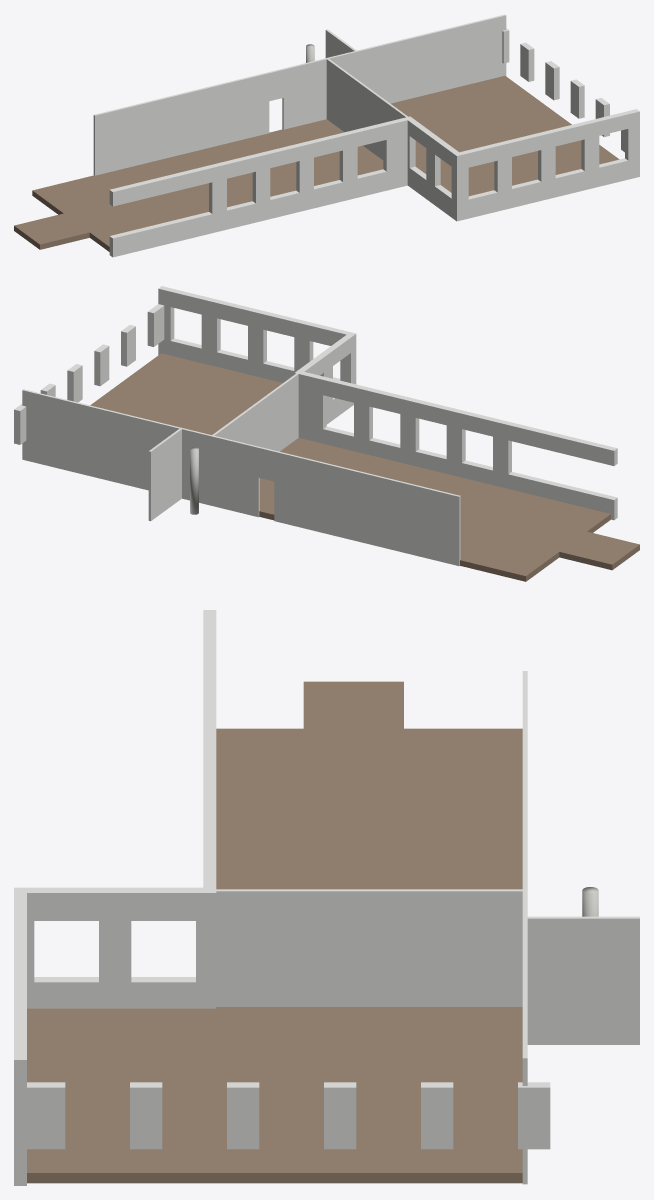
The model's file is SM_Bygg_Helgasetr_P4_O_S.fbx.
3 views of the same model, one above another, from view 1: azimuth 30°, elevation 25°; view 2: azimuth 150°, elevation 25°; view 3: azimuth 270°, elevation 25° (orthographic). The views are drawn at different scales.
Visible parts, largest first — view 1: SM_Bygg_Helgasetr_P4_O_S; view 2: SM_Bygg_Helgasetr_P4_O_S; view 3: SM_Bygg_Helgasetr_P4_O_S.
Part boxes in pixels (x1,y1,x2,y2): SM_Bygg_Helgasetr_P4_O_S: (14,14,639,257); SM_Bygg_Helgasetr_P4_O_S: (14,286,639,581); SM_Bygg_Helgasetr_P4_O_S: (14,610,639,1185).
Size of the model in its own units: 19.36 by 36.15 by 4.3.
